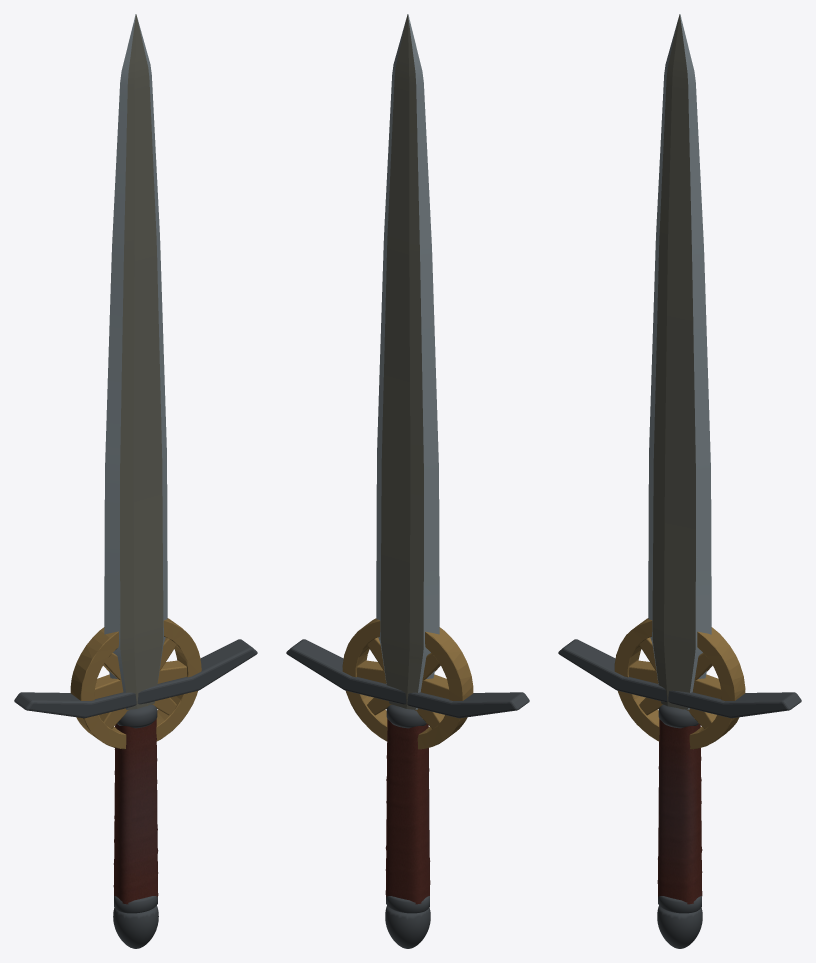
File: sunforged.glb
The picture shows the model from 3 angles, left to right: view 1: azimuth 30°, elevation 25°; view 2: azimuth 150°, elevation 25°; view 3: azimuth 330°, elevation 25°; orthographic projection.
Visible parts, largest first — view 1: sunforged_Baked.001 export; view 2: sunforged_Baked.001 export; view 3: sunforged_Baked.001 export.
Boxes of the visible parts, bbox=[...] form: sunforged_Baked.001 export: bbox=[14, 14, 257, 948]; sunforged_Baked.001 export: bbox=[286, 14, 529, 948]; sunforged_Baked.001 export: bbox=[558, 14, 801, 948].
Size of the model in its own units: 0.2994 by 1.15 by 0.051.
Materials: 1 (1 with a texture image).
